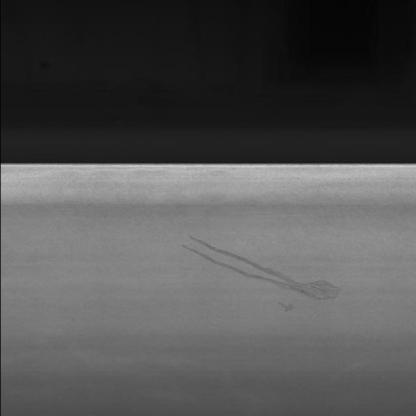water_spot: (171, 232, 342, 322)
